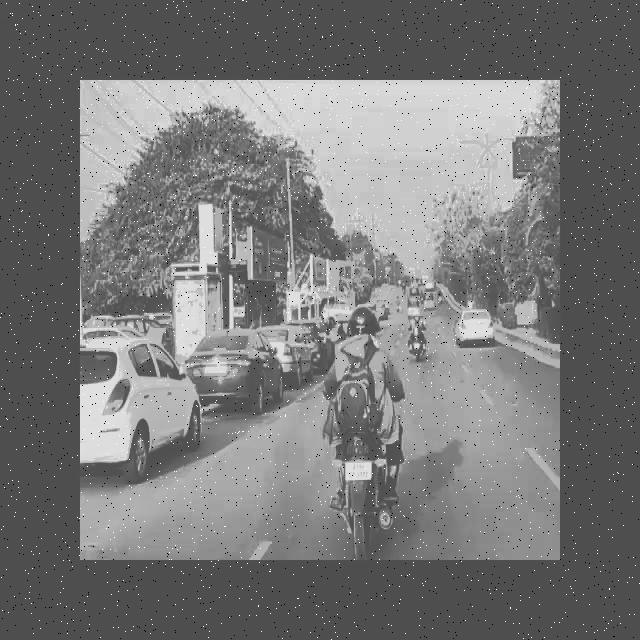Bike: (324, 313, 414, 555), (400, 311, 436, 363)
Car: (77, 324, 204, 482), (192, 324, 284, 412), (279, 315, 321, 387), (452, 301, 500, 355)
